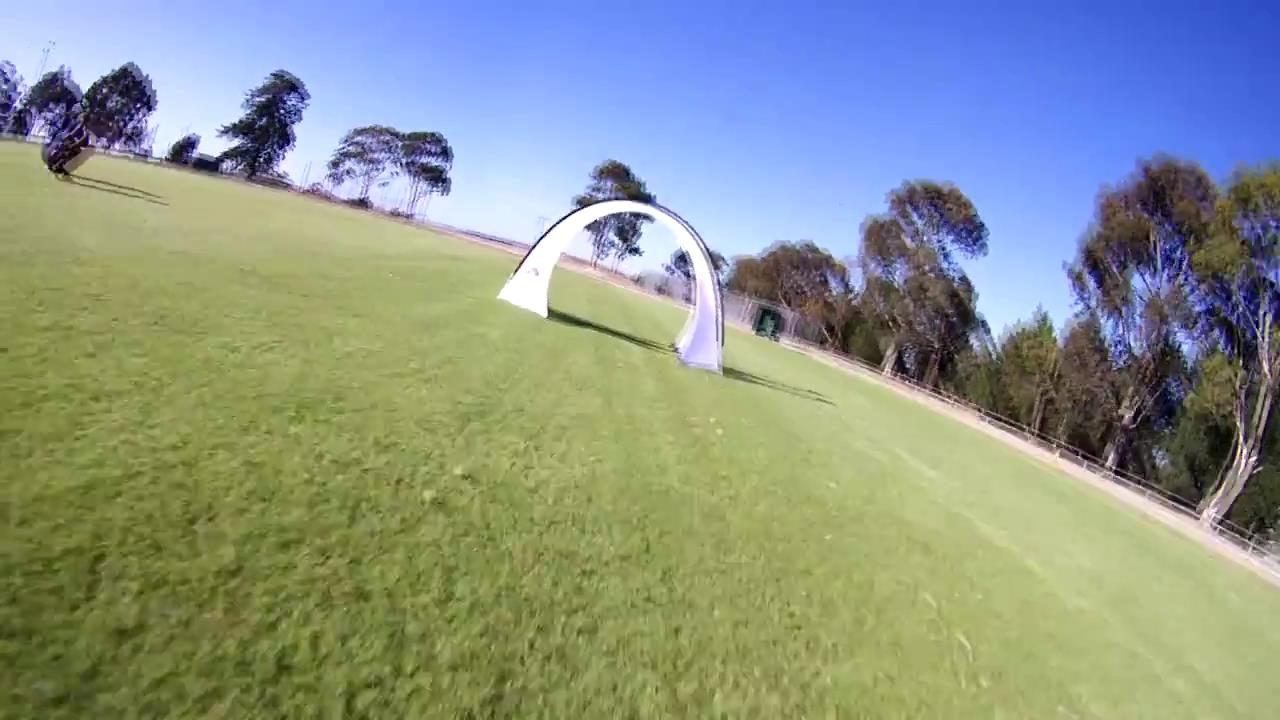gate: (490, 194, 728, 377)
